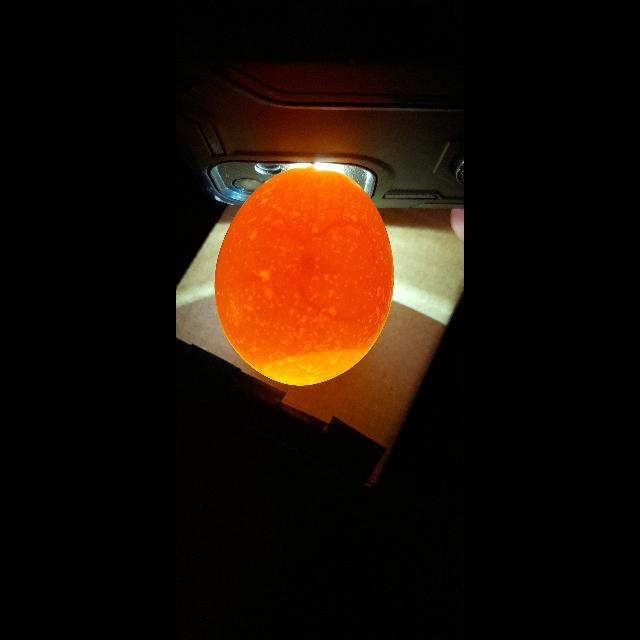Fertile: (223, 160, 395, 390)
